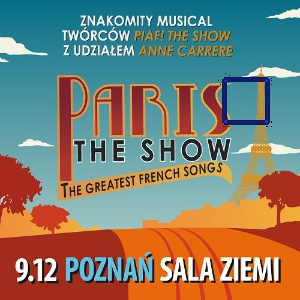square: (219, 76, 271, 126)
